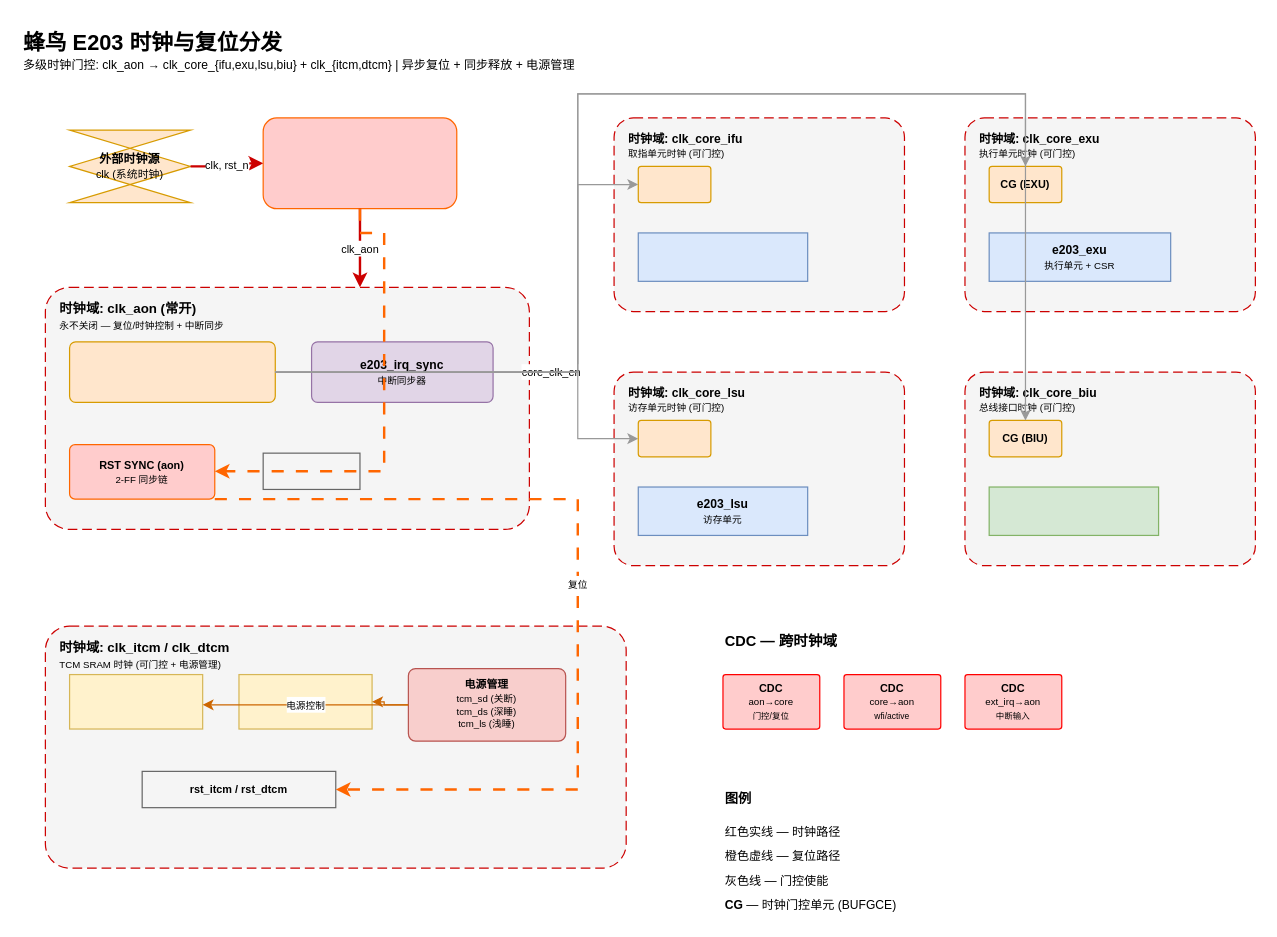
Image size: 1277x937. Some labels were removed from this diagram. Here are the shapes that lost their labels. From the top down, the centre of each, then its label:
At pixel 359 163: "e203_reset_ctrl 复位控制器 clk_aon 域".
At pixel 674 184: "CG (IFU)".
At pixel 722 256: "e203_ifu 取指单元".
At pixel 171 371: "e203_clk_ctrl 时钟控制器 + 门控".
At pixel 674 438: "CG (LSU)".
At pixel 311 470: "rst_aon".
At pixel 1073 510: "e203_biu 总线接口单元".
At pixel 135 701: "itcm_ram 指令 TCM".
At pixel 305 701: "dtcm_ram 数据 TCM".
